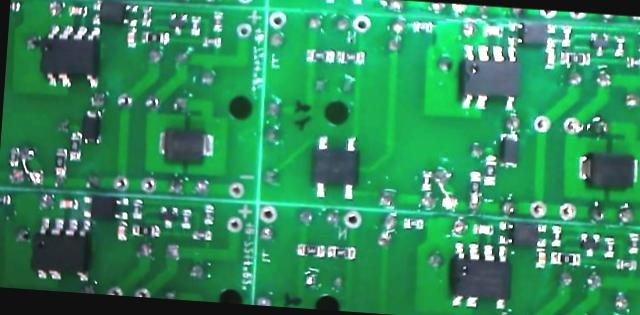chip-capacitor: (472, 221, 496, 235), (543, 45, 557, 68), (533, 245, 547, 268), (67, 3, 89, 17), (115, 219, 129, 241), (482, 23, 504, 36), (58, 196, 80, 209), (126, 26, 137, 47)
chip-resistor: (558, 48, 591, 67), (548, 248, 581, 266), (482, 152, 498, 187), (336, 47, 367, 65), (326, 242, 357, 260), (295, 240, 326, 258), (130, 221, 162, 238), (304, 46, 335, 63), (140, 28, 171, 45), (68, 130, 84, 162), (52, 145, 68, 176), (468, 167, 482, 198), (614, 255, 638, 272), (602, 232, 616, 259), (612, 32, 627, 57), (410, 17, 434, 32), (139, 3, 154, 27), (201, 201, 216, 225), (549, 222, 563, 247), (558, 23, 573, 46), (419, 167, 433, 191), (626, 230, 640, 254), (131, 196, 145, 220), (403, 215, 425, 230), (189, 12, 203, 35), (7, 144, 21, 167), (179, 206, 193, 228), (200, 34, 222, 47), (191, 227, 213, 240), (212, 9, 224, 31), (624, 54, 640, 69)
diode: (576, 148, 640, 190), (157, 125, 215, 164), (497, 130, 520, 169), (81, 106, 103, 144)
ic: (445, 237, 515, 310), (29, 213, 95, 284), (456, 41, 521, 112), (38, 20, 102, 90), (308, 131, 362, 201), (496, 218, 548, 247), (505, 19, 558, 46), (81, 192, 131, 219), (91, 0, 140, 27)
transistor: (578, 229, 602, 257), (167, 9, 190, 36), (588, 30, 611, 56), (158, 203, 180, 228)
